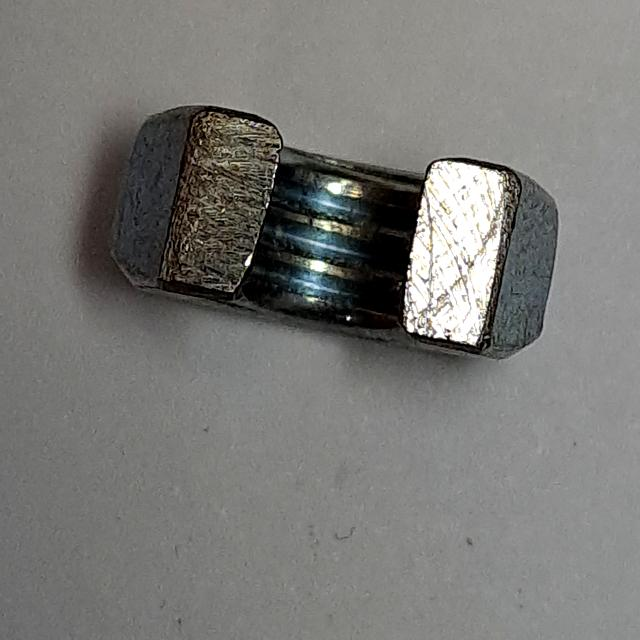Side-Fracture: (96, 98, 570, 379)
